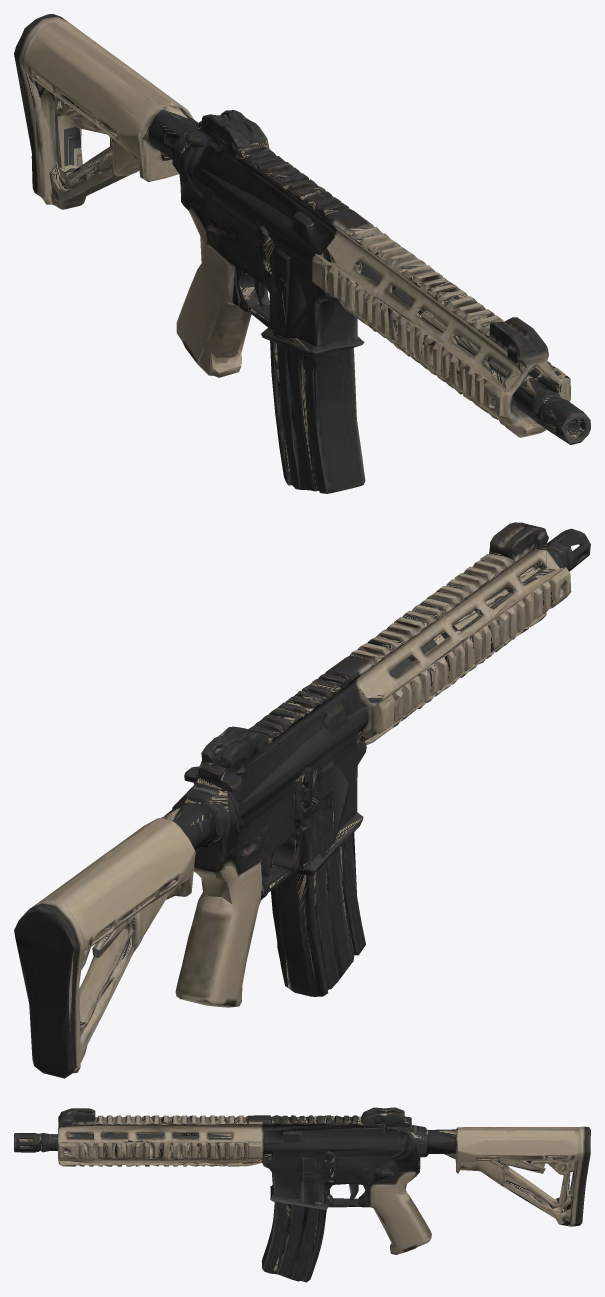
The model's file is desert_storm_rifle.glb.
3 renders of one model, top to bottom at view 1: azimuth 30°, elevation 25°; view 2: azimuth 150°, elevation 25°; view 3: azimuth 270°, elevation 25°, orthographic. The views are drawn at different scales.
Parts seen in each view (by area): view 1: model, mesh_lod; view 2: model, mesh_lod; view 3: model, mesh_lod.
Boxes of the visible parts, left/top/right/bottom form: model: left=14, top=14, right=590, bottom=493; mesh_lod: left=15, top=17, right=586, bottom=490; model: left=14, top=522, right=590, bottom=1078; mesh_lod: left=15, top=525, right=590, bottom=1075; model: left=14, top=1107, right=590, bottom=1282; mesh_lod: left=14, top=1108, right=589, bottom=1281.
Bounding box in the file's own units: 0.0678 × 0.276 × 0.86.
1 material, 1 textured.
